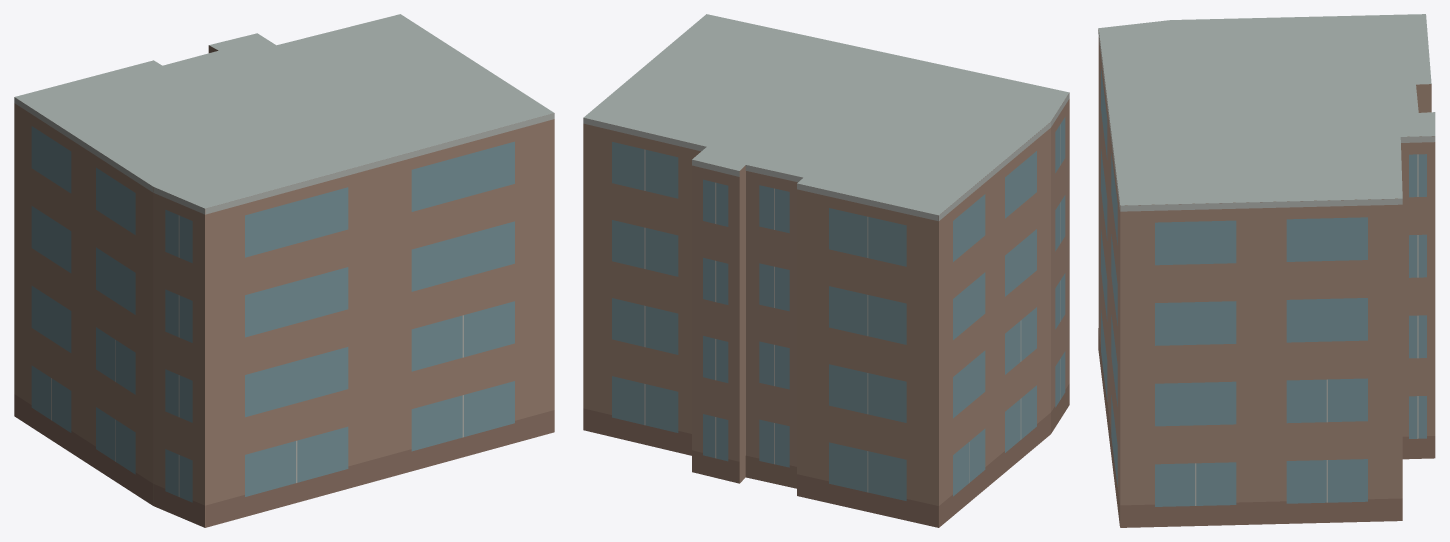
Rendered from survey-upis-32739855.glb.
The picture shows the model from 3 angles, left to right: view 1: azimuth 30°, elevation 25°; view 2: azimuth 150°, elevation 25°; view 3: azimuth 270°, elevation 25°; orthographic projection. The views are drawn at different scales.
Parts seen in each view (by area): view 1: survey-upis-32739855.tmp; view 2: survey-upis-32739855.tmp; view 3: survey-upis-32739855.tmp.
Boxes of the visible parts, left/top/right/bottom form: survey-upis-32739855.tmp: left=14, top=14, right=554, bottom=527; survey-upis-32739855.tmp: left=583, top=14, right=1069, bottom=527; survey-upis-32739855.tmp: left=1098, top=14, right=1435, bottom=527.
Bounding box in the file's own units: 16.45 × 12.9 × 12.22.
